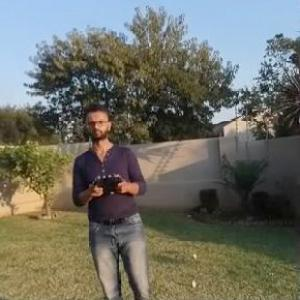follow: (70, 98, 160, 299)
